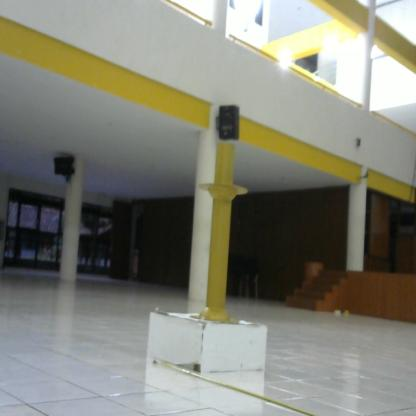pole: (192, 147, 252, 329)
